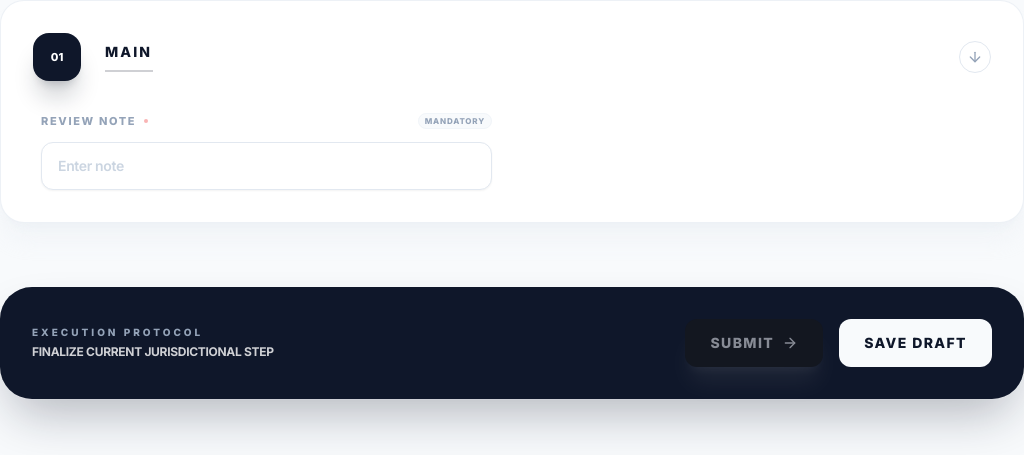
Scenario: SchemaRenderer integration › enables primary action after required field is filled; secondary stays enabled
Check: the button "Submit" is disabled, box [685,318,823,366]
Check: the button "Save draft" is enabled, box [839,318,992,366]
Type "Done" into the field with placeholder "Enter note" at (266, 166), box [41,142,492,190]
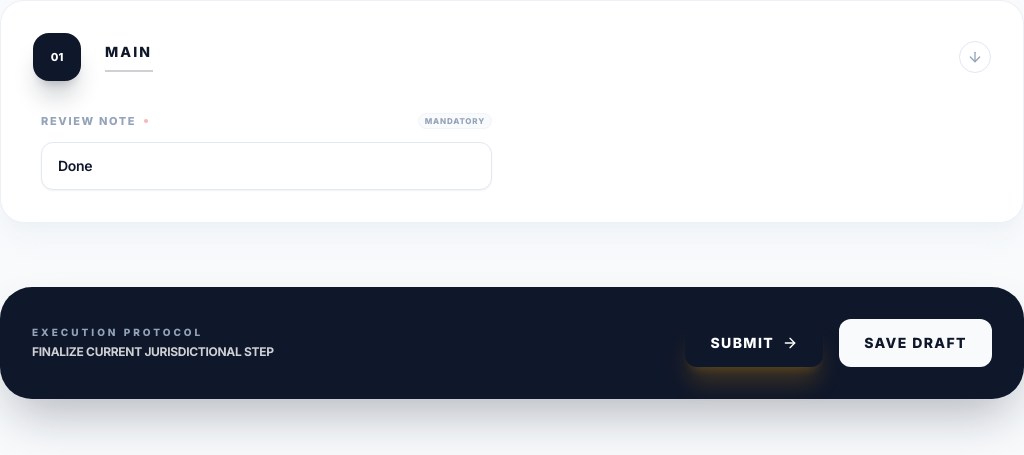
Check: the button "Submit" is enabled
Click the button "Submit" at (754, 342), box [685,318,823,366]
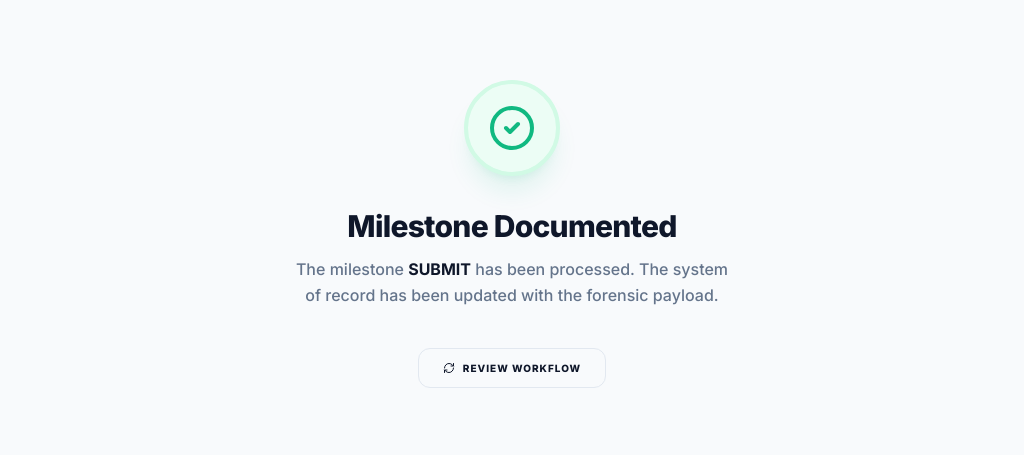
Check: the message is shown, box [296,80,728,388]
